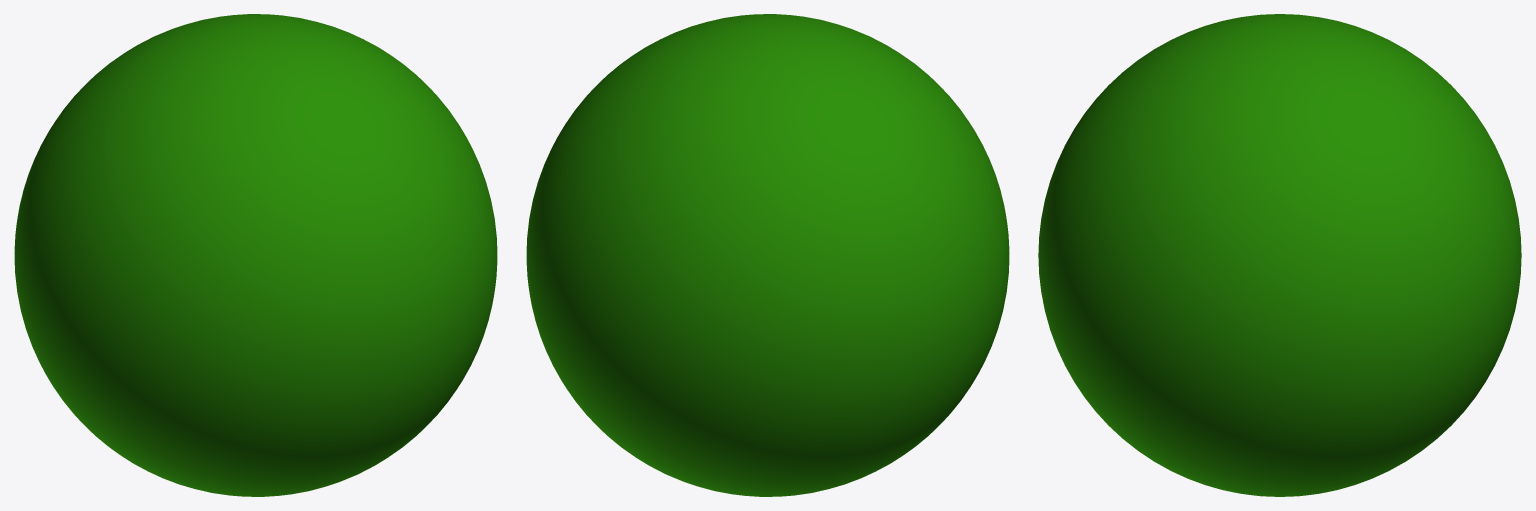
File: planet 7.3.glb
3 views of the same model, side by side, from view 1: azimuth 30°, elevation 25°; view 2: azimuth 150°, elevation 25°; view 3: azimuth 270°, elevation 25° (orthographic).
Visible parts, largest first — view 1: Icosphere.001; view 2: Icosphere.001; view 3: Icosphere.001.
Part boxes in pixels (x1=…): Icosphere.001: x1=14, y1=14, x2=497, y2=496; Icosphere.001: x1=526, y1=14, x2=1009, y2=496; Icosphere.001: x1=1038, y1=14, x2=1521, y2=496.
Bounding box in the file's own units: 601 × 601 × 601.
